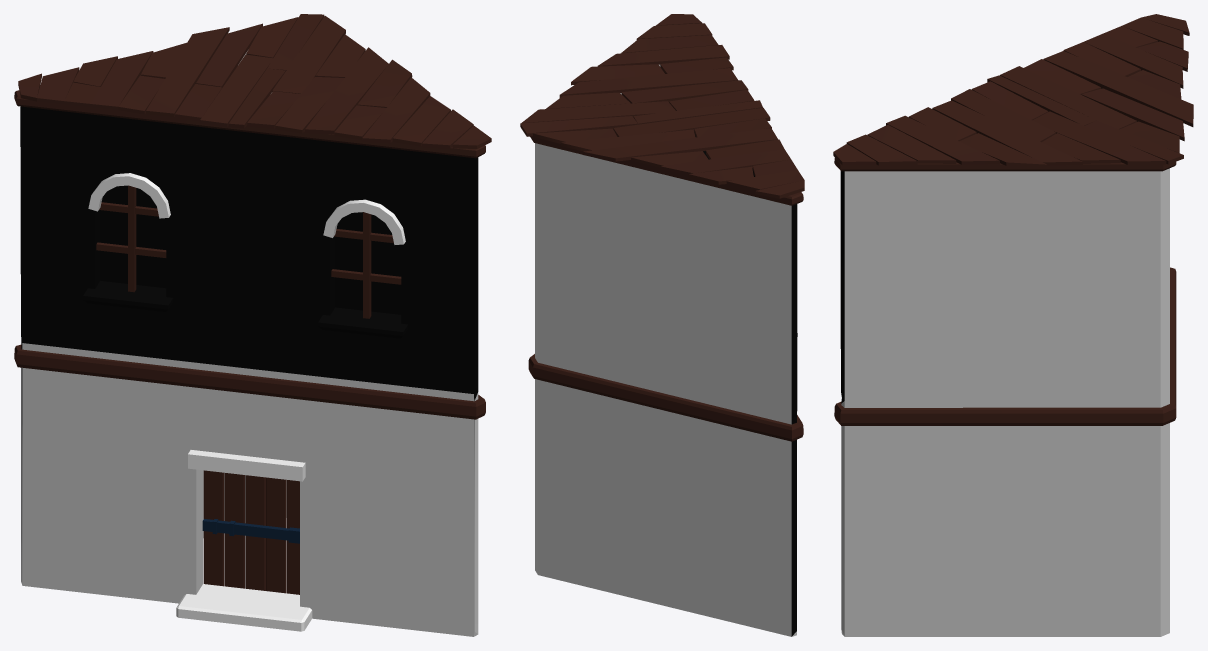
File: civilian_house_40_e.FBX
The picture shows the model from 3 angles, left to right: view 1: azimuth 30°, elevation 25°; view 2: azimuth 150°, elevation 25°; view 3: azimuth 270°, elevation 25°; orthographic projection. The views are drawn at different scales.
Visible parts, largest first — view 1: civilian_house_40_e; view 2: civilian_house_40_e; view 3: civilian_house_40_e.
Boxes of the visible parts, x1,y1,x2,y2 form: civilian_house_40_e: (14, 14, 491, 636); civilian_house_40_e: (520, 14, 804, 636); civilian_house_40_e: (833, 14, 1193, 636).
Bounding box in the file's own units: 546 × 817 × 553.
